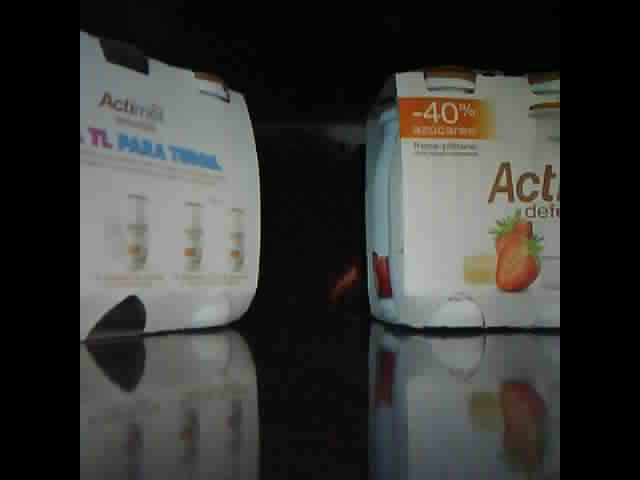actimel: (80, 21, 263, 347), (365, 66, 560, 331)
